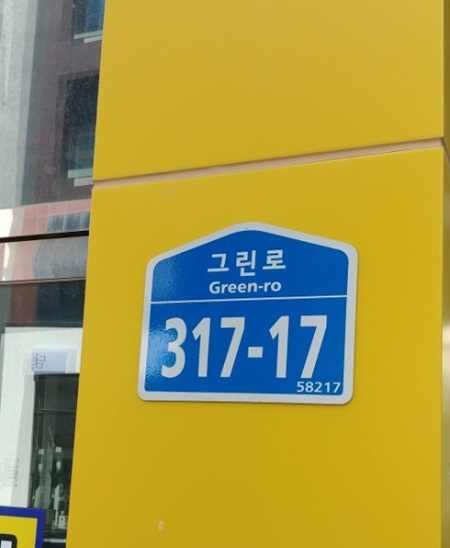building_license_plate1: (139, 221, 359, 405)
